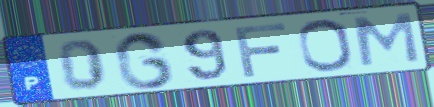0: (56, 37, 109, 94)
9: (179, 28, 229, 83)
F: (231, 21, 290, 79)
G: (112, 30, 177, 91)
M: (351, 11, 422, 68)
O: (295, 17, 356, 73)
